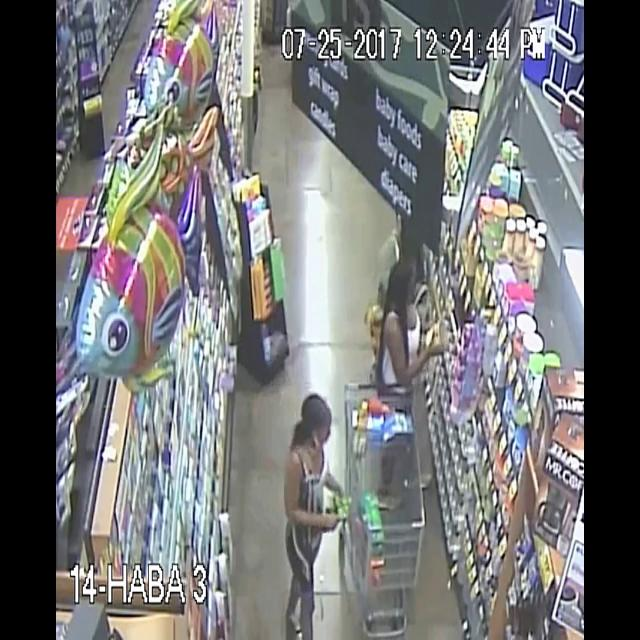Product: (426, 309, 462, 352)
normal: (281, 359, 349, 640)
shoplifting: (378, 210, 482, 428)
